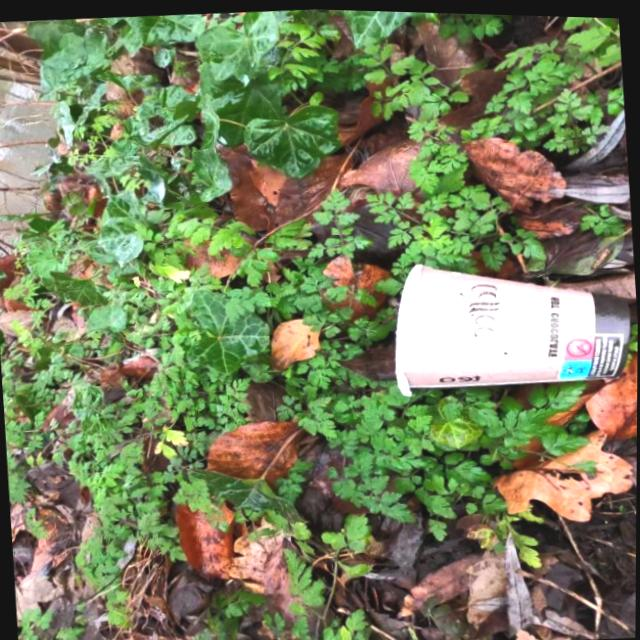Cup: (382, 243, 638, 401)
